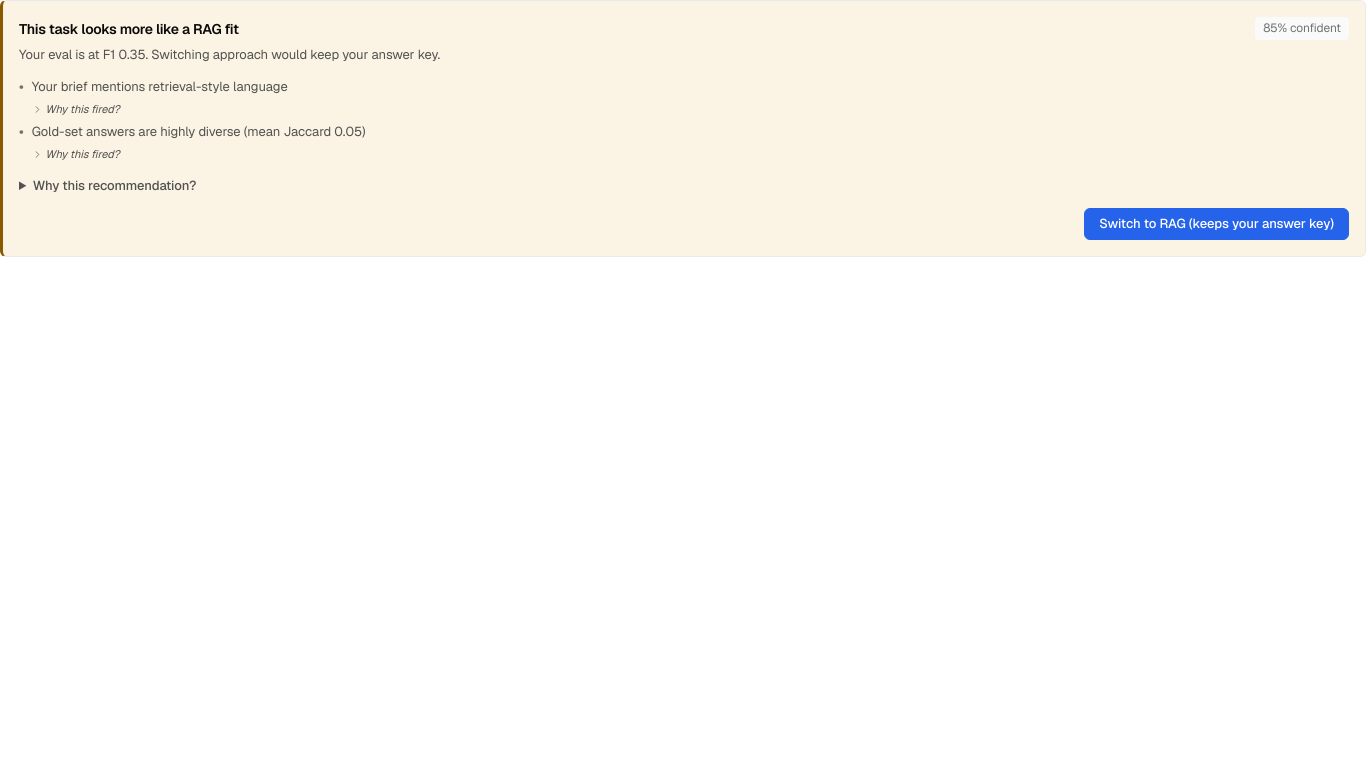
Test case: RerouteRecommendationPanel › cancels the modal without firing the clone POST
Click the button with test id "reroute-card-cta": (1217, 224) [1084, 208, 1349, 240]
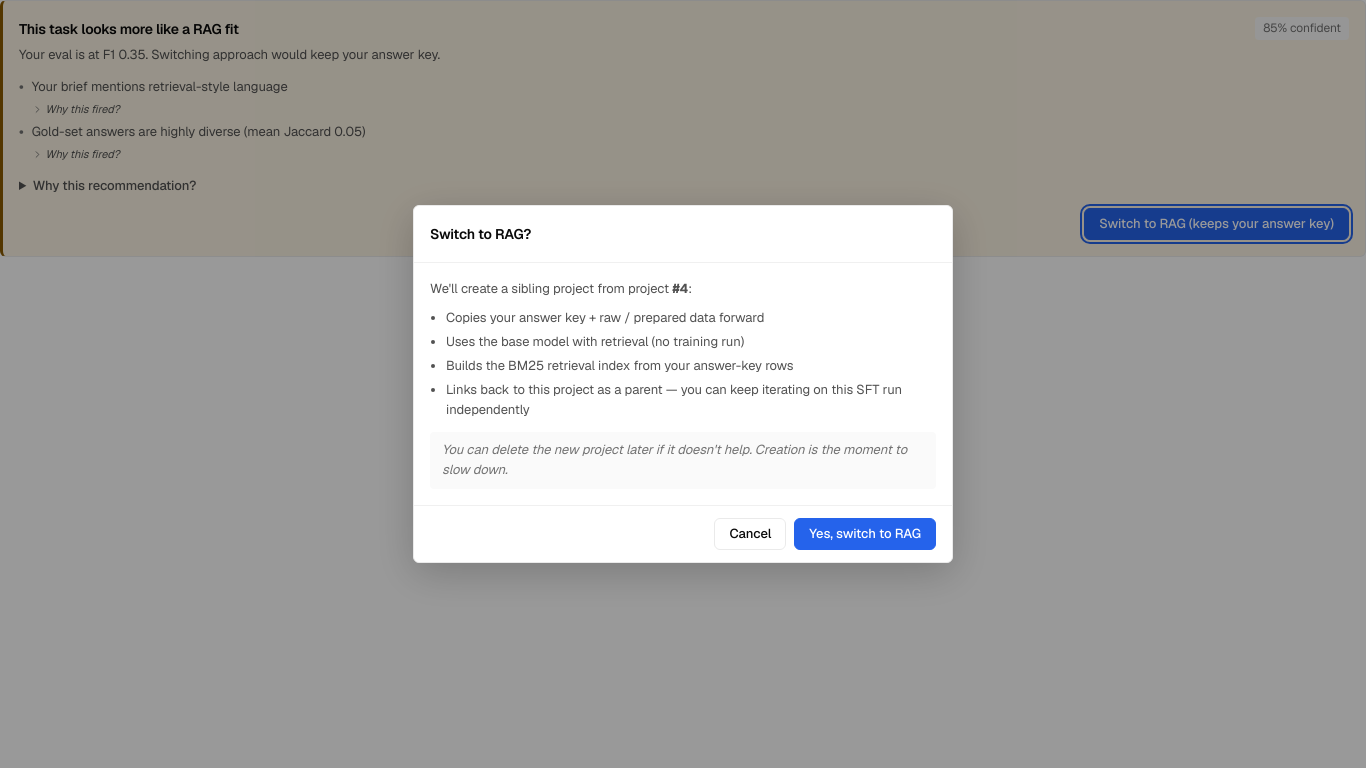
Click the button with test id "reroute-modal-cancel": (750, 534) [714, 518, 786, 550]
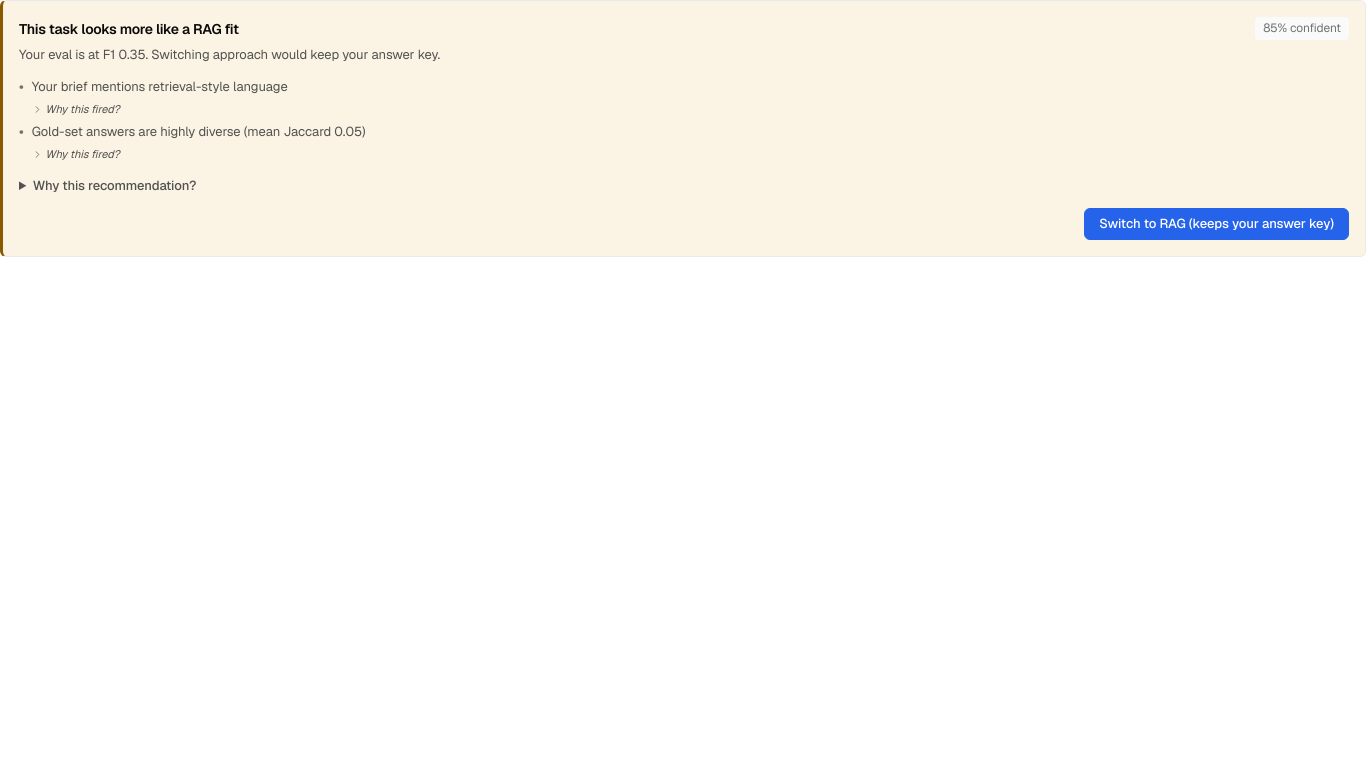
Check: the element with test id "reroute-modal" is gone
